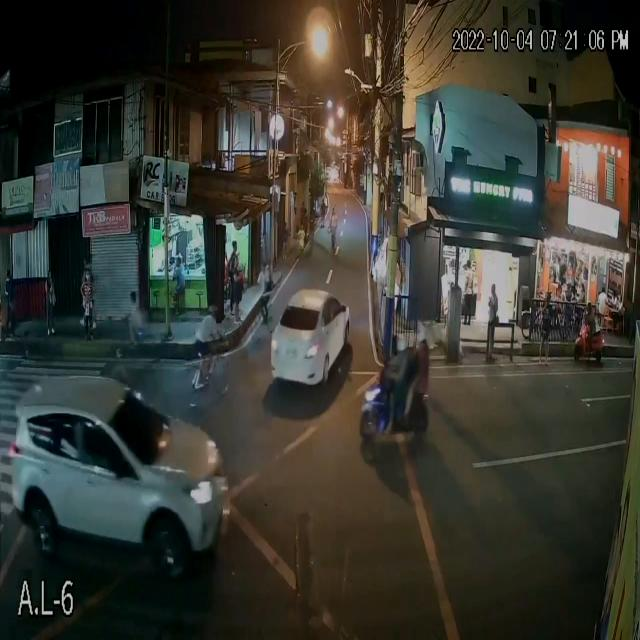Full-Faced: (412, 316, 429, 344), (395, 328, 413, 354)
